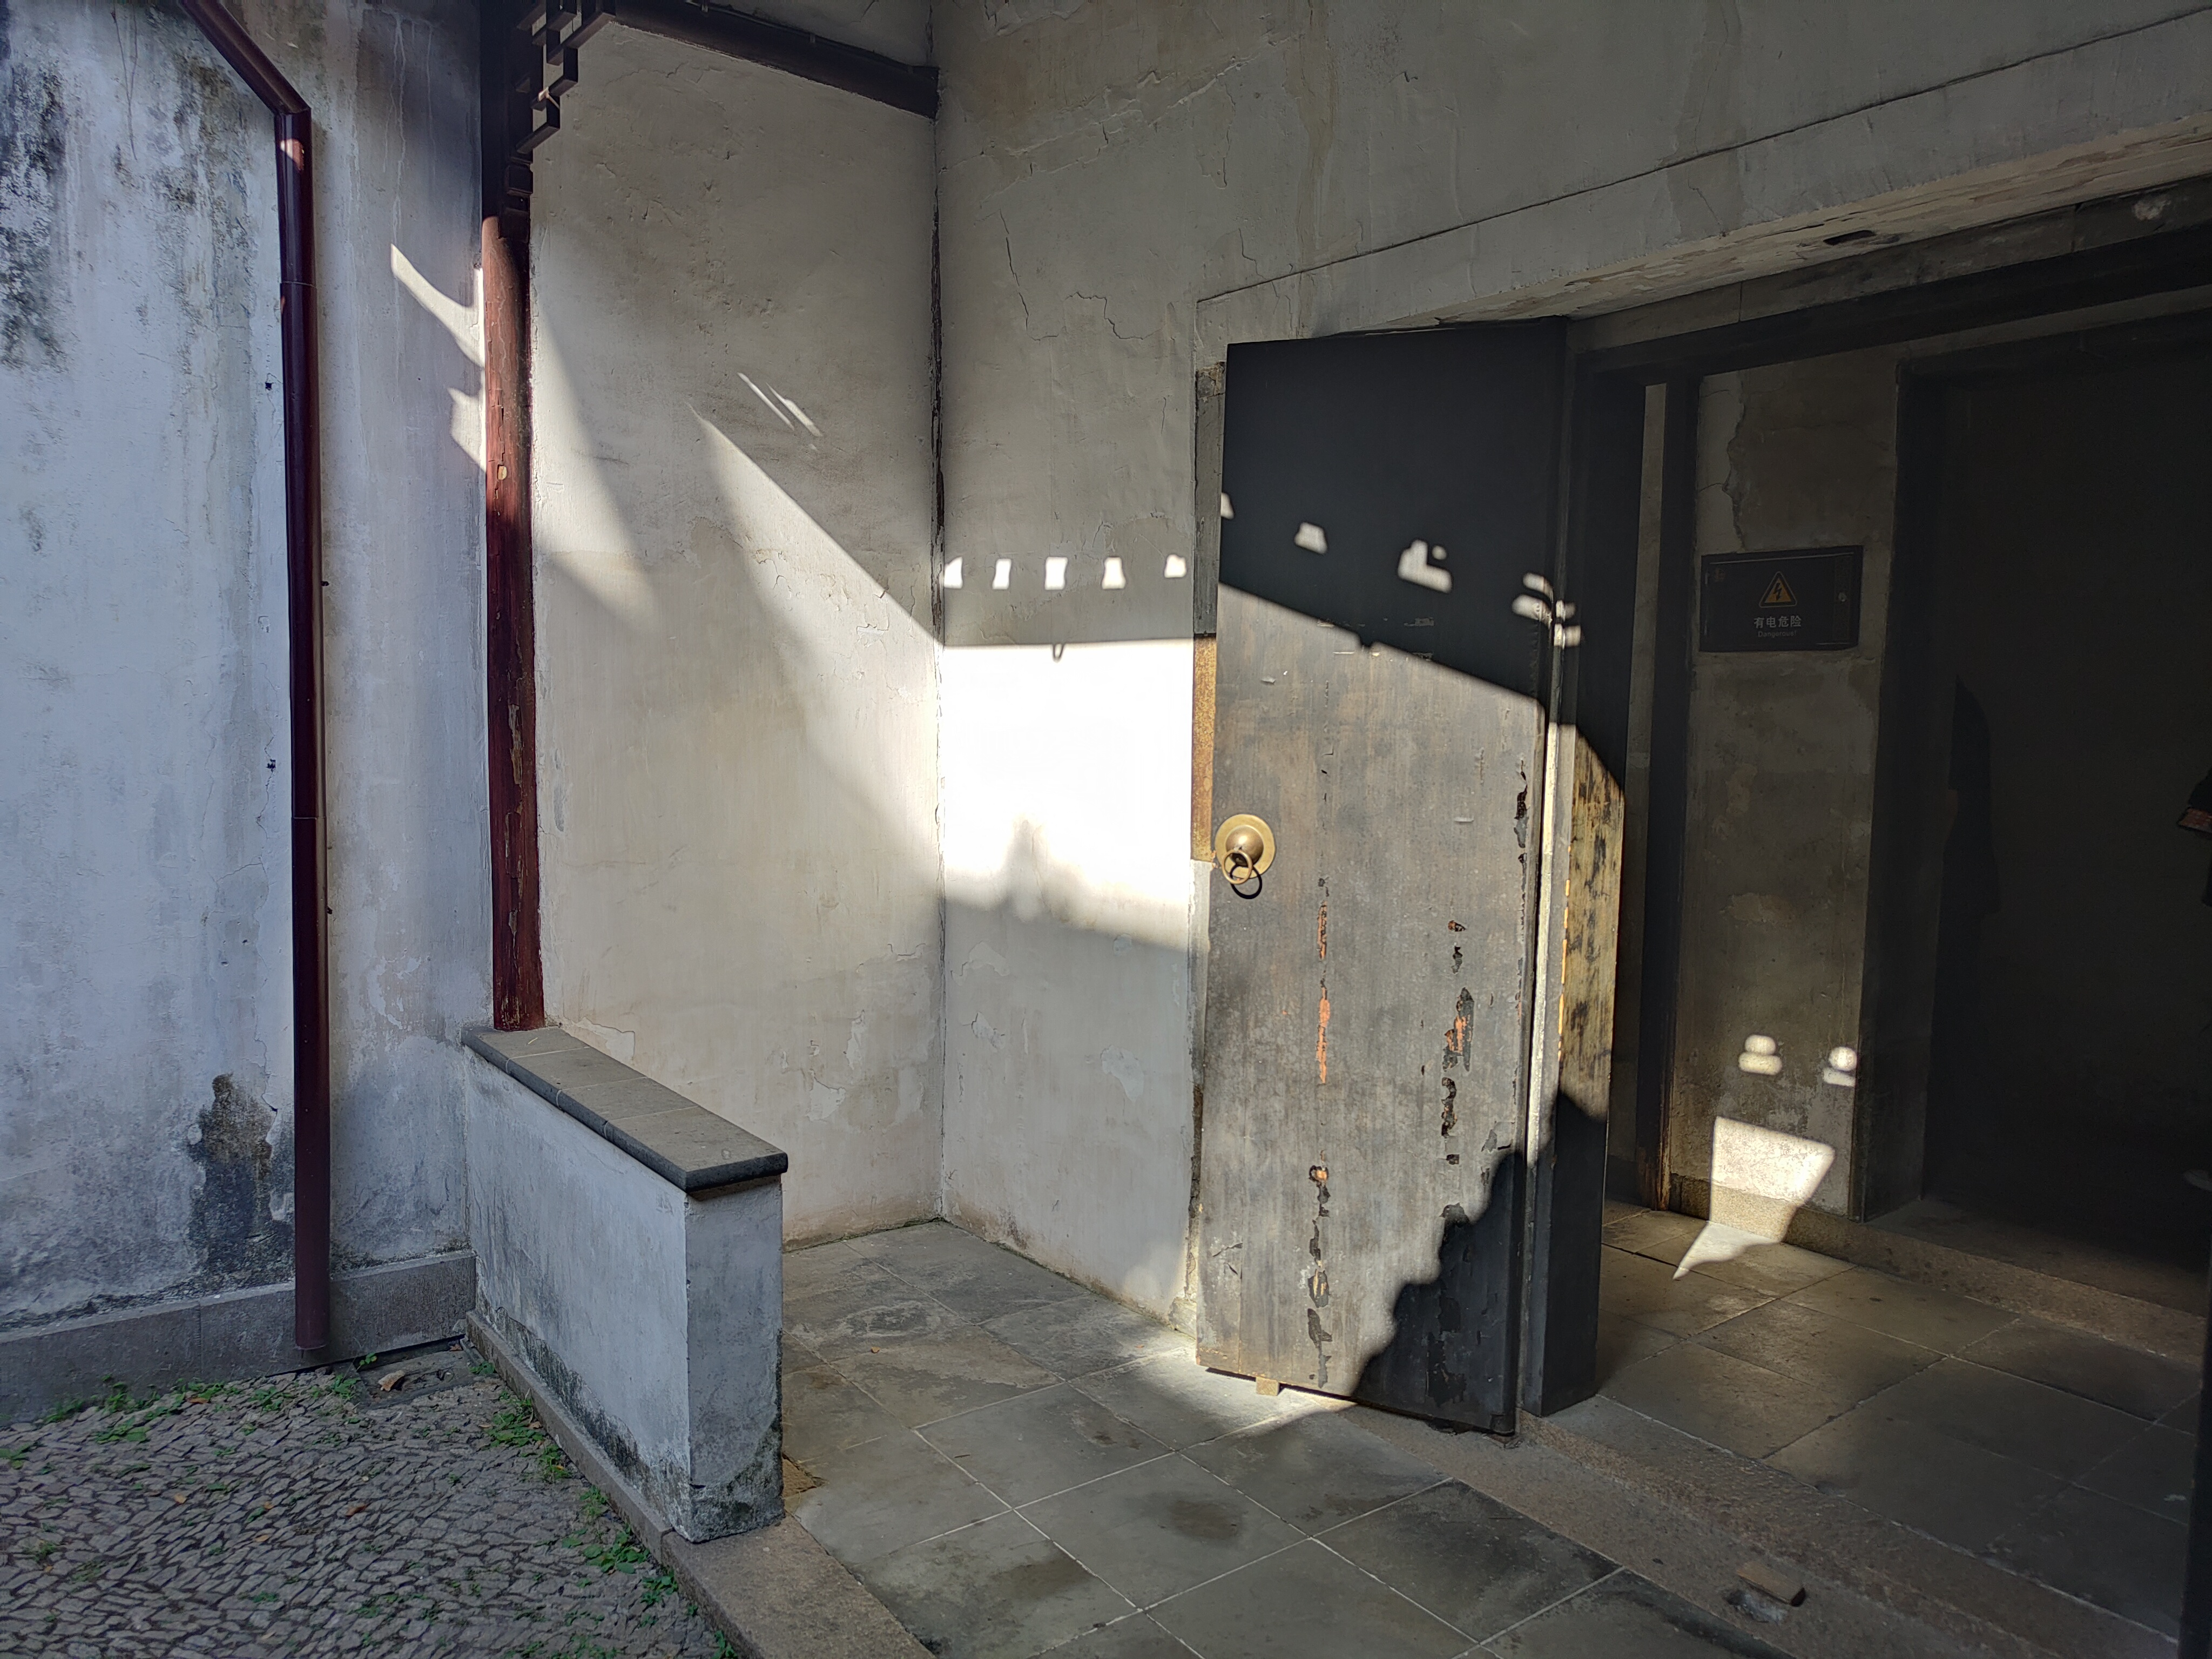门: (1238, 394, 2139, 1398)
